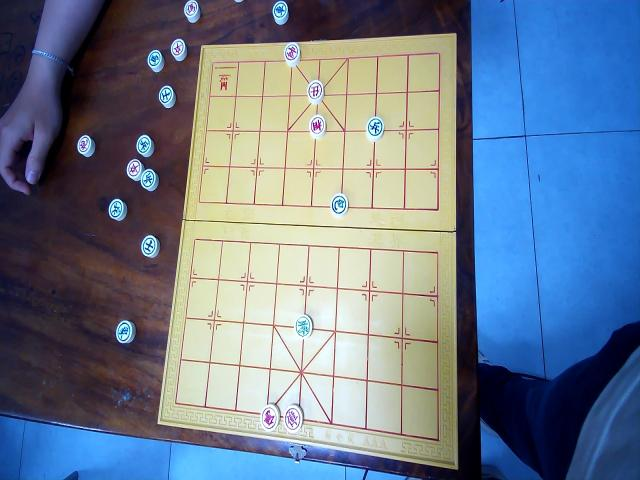piece: (283, 404, 303, 434), (259, 403, 279, 432), (115, 320, 135, 345), (140, 234, 160, 258), (308, 112, 326, 138), (306, 78, 324, 104), (366, 115, 384, 141), (76, 133, 95, 157), (330, 192, 348, 217), (126, 157, 144, 181), (294, 314, 312, 338), (272, 0, 289, 25), (158, 84, 176, 107), (146, 48, 164, 71), (108, 198, 126, 221), (284, 41, 300, 66), (183, 0, 200, 23), (140, 168, 157, 191), (136, 134, 153, 157), (171, 37, 187, 61)
